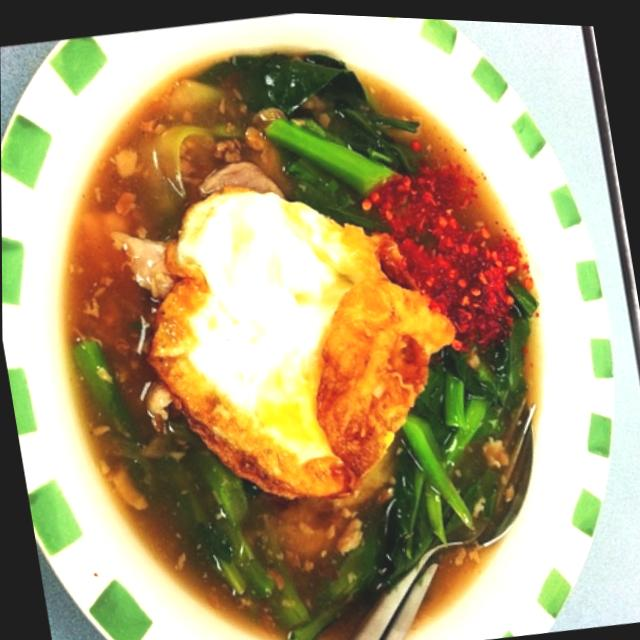面条主食: (23, 27, 575, 640)
